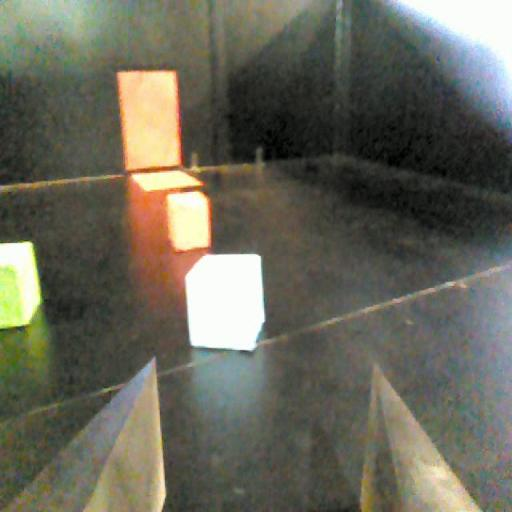cube: (184, 245, 270, 354), (0, 240, 45, 332), (164, 194, 212, 254)
